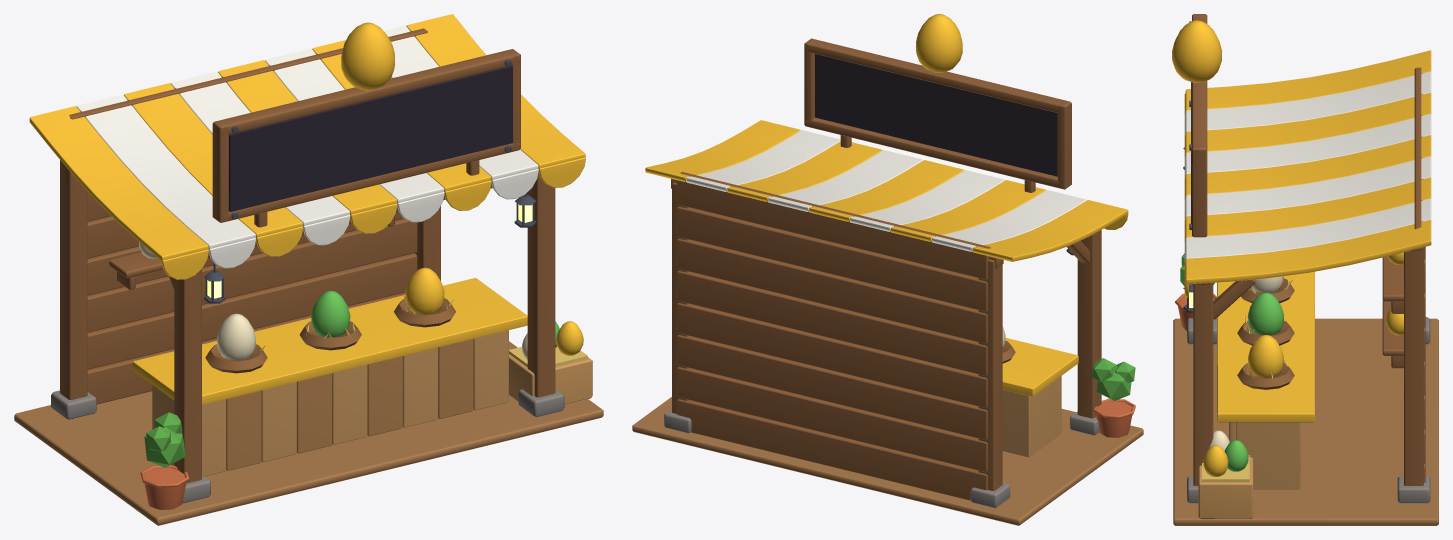
File: stall-egg-shop.glb
3 views of the same model, side by side, from view 1: azimuth 30°, elevation 25°; view 2: azimuth 150°, elevation 25°; view 3: azimuth 270°, elevation 25° (orthographic). The views are drawn at different scales.
Visible parts, largest first — view 1: StallEggShop_Frame, StallEggShop_Accent, StallEggShop_Floor, StallEggShop_SignBoard, StallEggShop_Cloth, StallEggShop_Counter, StallEggShop_CounterAlt, StallEggShop_Nests, StallEggShop_Icon, StallEggShop_Stone, StallEggShop_Crate, StallEggShop_EggsGold (+6 smaller); view 2: StallEggShop_Frame, StallEggShop_Accent, StallEggShop_SignBoard, StallEggShop_Cloth, StallEggShop_Floor, StallEggShop_Counter, StallEggShop_Icon, StallEggShop_Stone, StallEggShop_Plant, StallEggShop_Pot; view 3: StallEggShop_Accent, StallEggShop_Floor, StallEggShop_Cloth, StallEggShop_Frame, StallEggShop_Counter, StallEggShop_Icon, StallEggShop_EggsGold, StallEggShop_Crate, StallEggShop_Nests, StallEggShop_EggsGreen, StallEggShop_Stone, StallEggShop_EggsCream (+2 smaller).
Boxes of the visible parts, bbox=[...] form: StallEggShop_Frame: bbox=[60, 28, 555, 483]; StallEggShop_Accent: bbox=[29, 14, 585, 404]; StallEggShop_Floor: bbox=[14, 341, 603, 525]; StallEggShop_SignBoard: bbox=[229, 66, 512, 211]; StallEggShop_Cloth: bbox=[76, 25, 538, 268]; StallEggShop_Counter: bbox=[152, 330, 508, 476]; StallEggShop_CounterAlt: bbox=[226, 339, 473, 470]; StallEggShop_Nests: bbox=[205, 298, 455, 373]; StallEggShop_Icon: bbox=[341, 22, 394, 90]; StallEggShop_Stone: bbox=[51, 389, 564, 503]; StallEggShop_Crate: bbox=[509, 354, 592, 404]; StallEggShop_EggsGold: bbox=[405, 267, 583, 355]; StallEggShop_Frame: bbox=[671, 38, 1101, 500]; StallEggShop_Accent: bbox=[645, 120, 1128, 396]; StallEggShop_SignBoard: bbox=[815, 54, 1057, 176]; StallEggShop_Cloth: bbox=[686, 130, 1086, 251]; StallEggShop_Floor: bbox=[632, 397, 1143, 525]; StallEggShop_Counter: bbox=[1002, 376, 1061, 457]; StallEggShop_Icon: bbox=[916, 14, 962, 72]; StallEggShop_Stone: bbox=[664, 409, 1099, 508]; StallEggShop_Plant: bbox=[1091, 358, 1135, 400]; StallEggShop_Pot: bbox=[1093, 398, 1135, 437]; StallEggShop_Accent: bbox=[1184, 50, 1431, 422]; StallEggShop_Floor: bbox=[1173, 318, 1438, 525]; StallEggShop_Cloth: bbox=[1184, 71, 1431, 262]; StallEggShop_Frame: bbox=[1192, 14, 1425, 485]; StallEggShop_Counter: bbox=[1229, 422, 1300, 489]; StallEggShop_Icon: bbox=[1172, 20, 1222, 82]; StallEggShop_EggsGold: bbox=[1203, 252, 1403, 476]; StallEggShop_Crate: bbox=[1198, 457, 1253, 518]; StallEggShop_Nests: bbox=[1237, 278, 1294, 389]; StallEggShop_EggsGreen: bbox=[1224, 292, 1283, 471]; StallEggShop_Stone: bbox=[1187, 317, 1430, 503]; StallEggShop_EggsCream: bbox=[1209, 276, 1283, 450].
Size of the model in its own units: 19.13 by 17.81 by 10.65.
